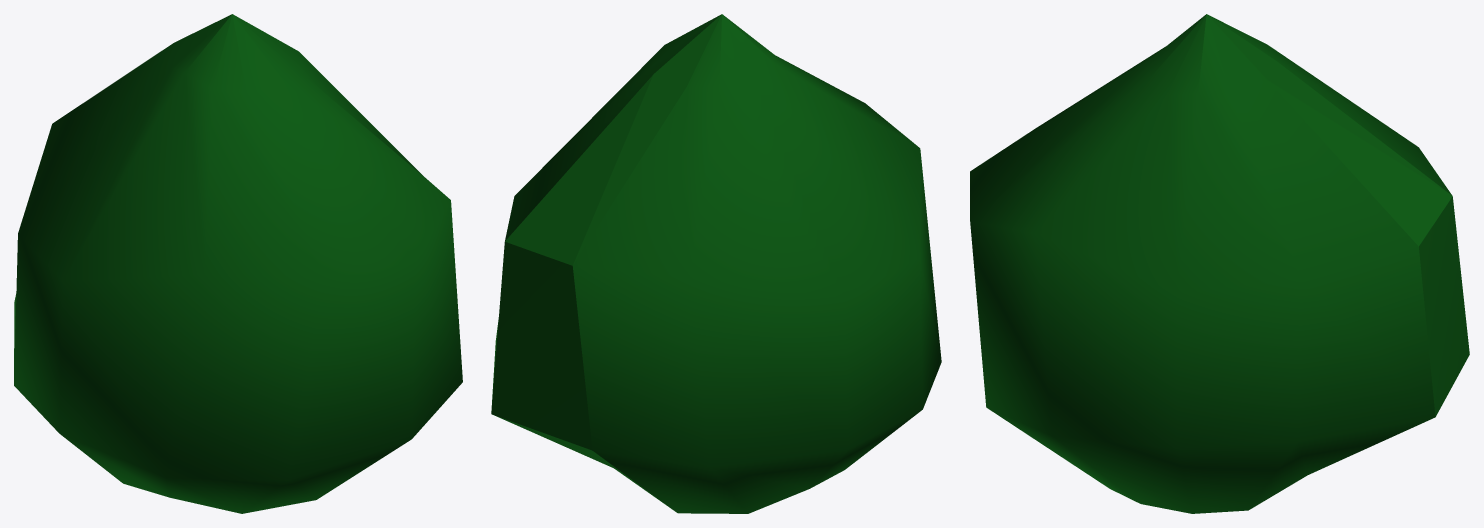
File: Cespuglio 2.DAE
The picture shows the model from 3 angles, left to right: view 1: azimuth 30°, elevation 25°; view 2: azimuth 150°, elevation 25°; view 3: azimuth 270°, elevation 25°; orthographic projection.
Parts seen in each view (by area): view 1: Sphere003; view 2: Sphere003; view 3: Sphere003.
Boxes of the visible parts, x1,y1,x2,y2 form: Sphere003: [14, 14, 462, 513]; Sphere003: [491, 14, 941, 513]; Sphere003: [970, 14, 1469, 513].
Bounding box in the file's own units: 23.99 × 28.32 × 27.09.
